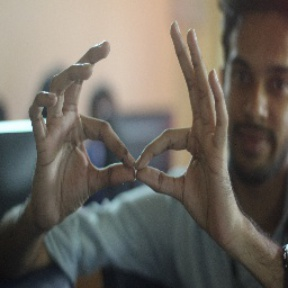B: (61, 94, 214, 210)
